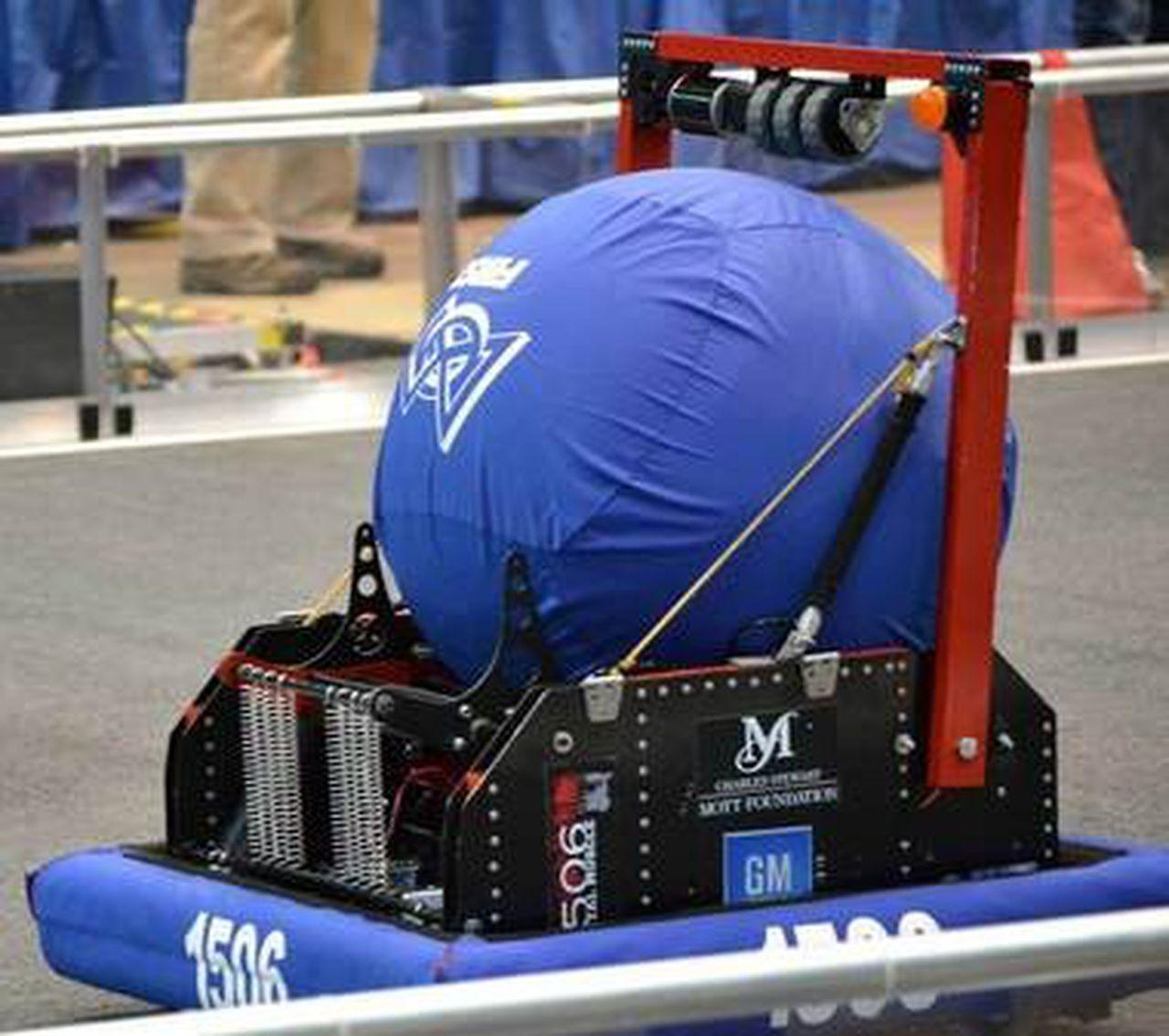robot: (24, 5, 1169, 1036)
